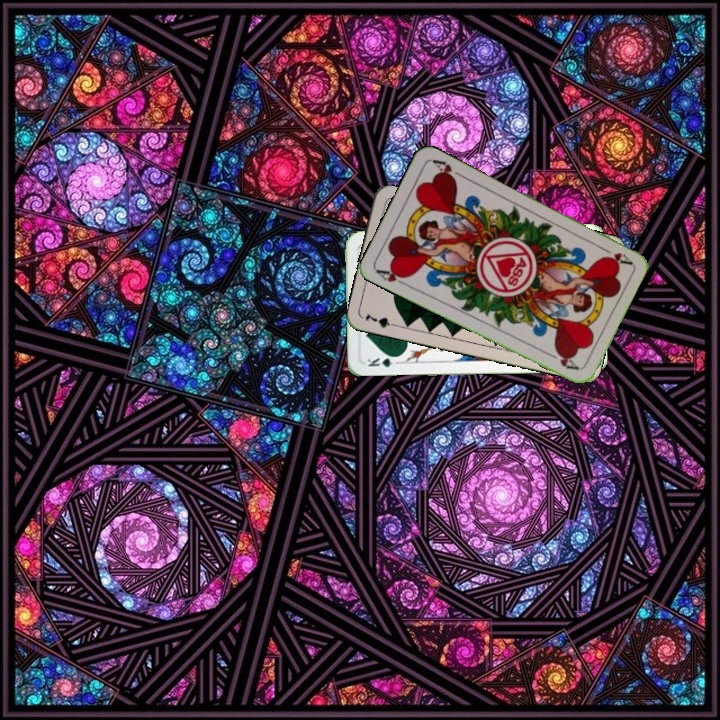G7: (361, 309, 401, 330)
GK: (363, 353, 403, 369)
HA: (372, 264, 411, 289), (595, 242, 633, 267)
